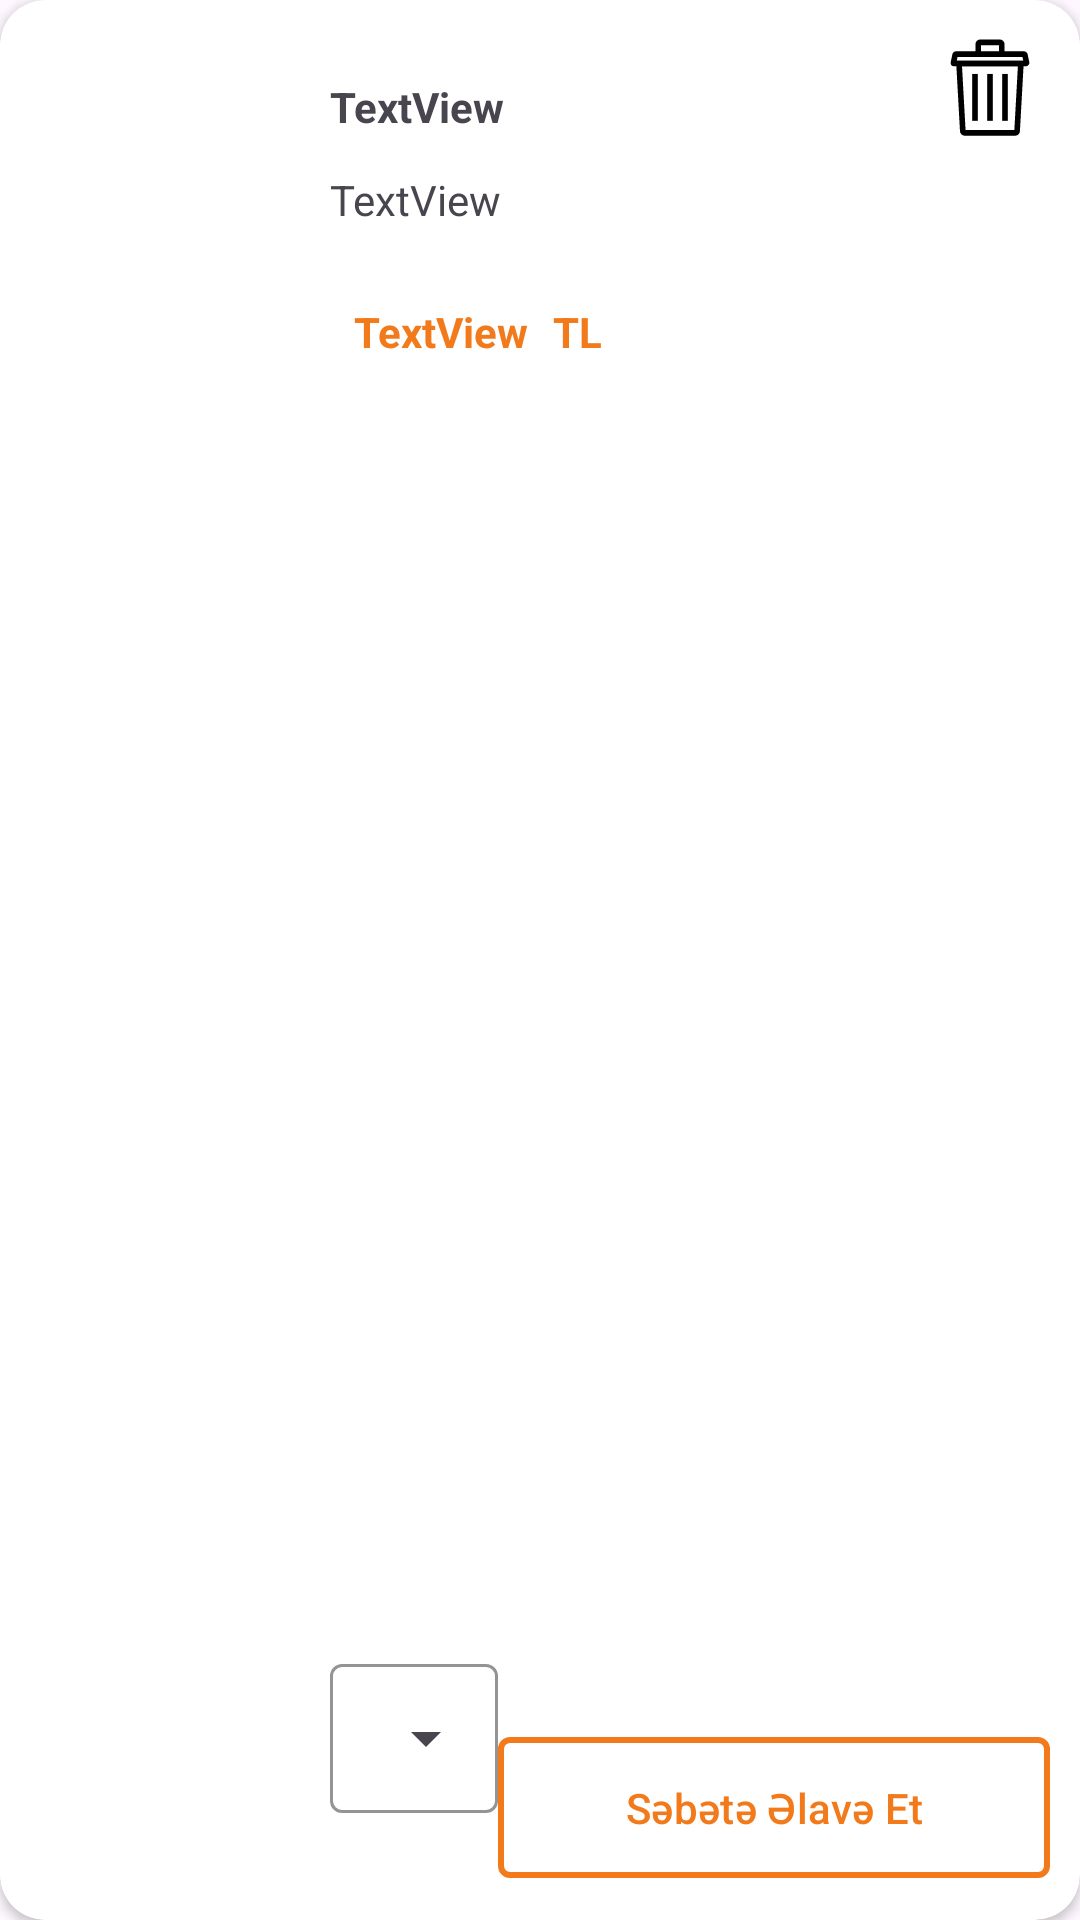

Screen size 1080 × 1920. Icon name, then its center in pixels as (x=x, y=y):
trash: (x=990, y=87)
